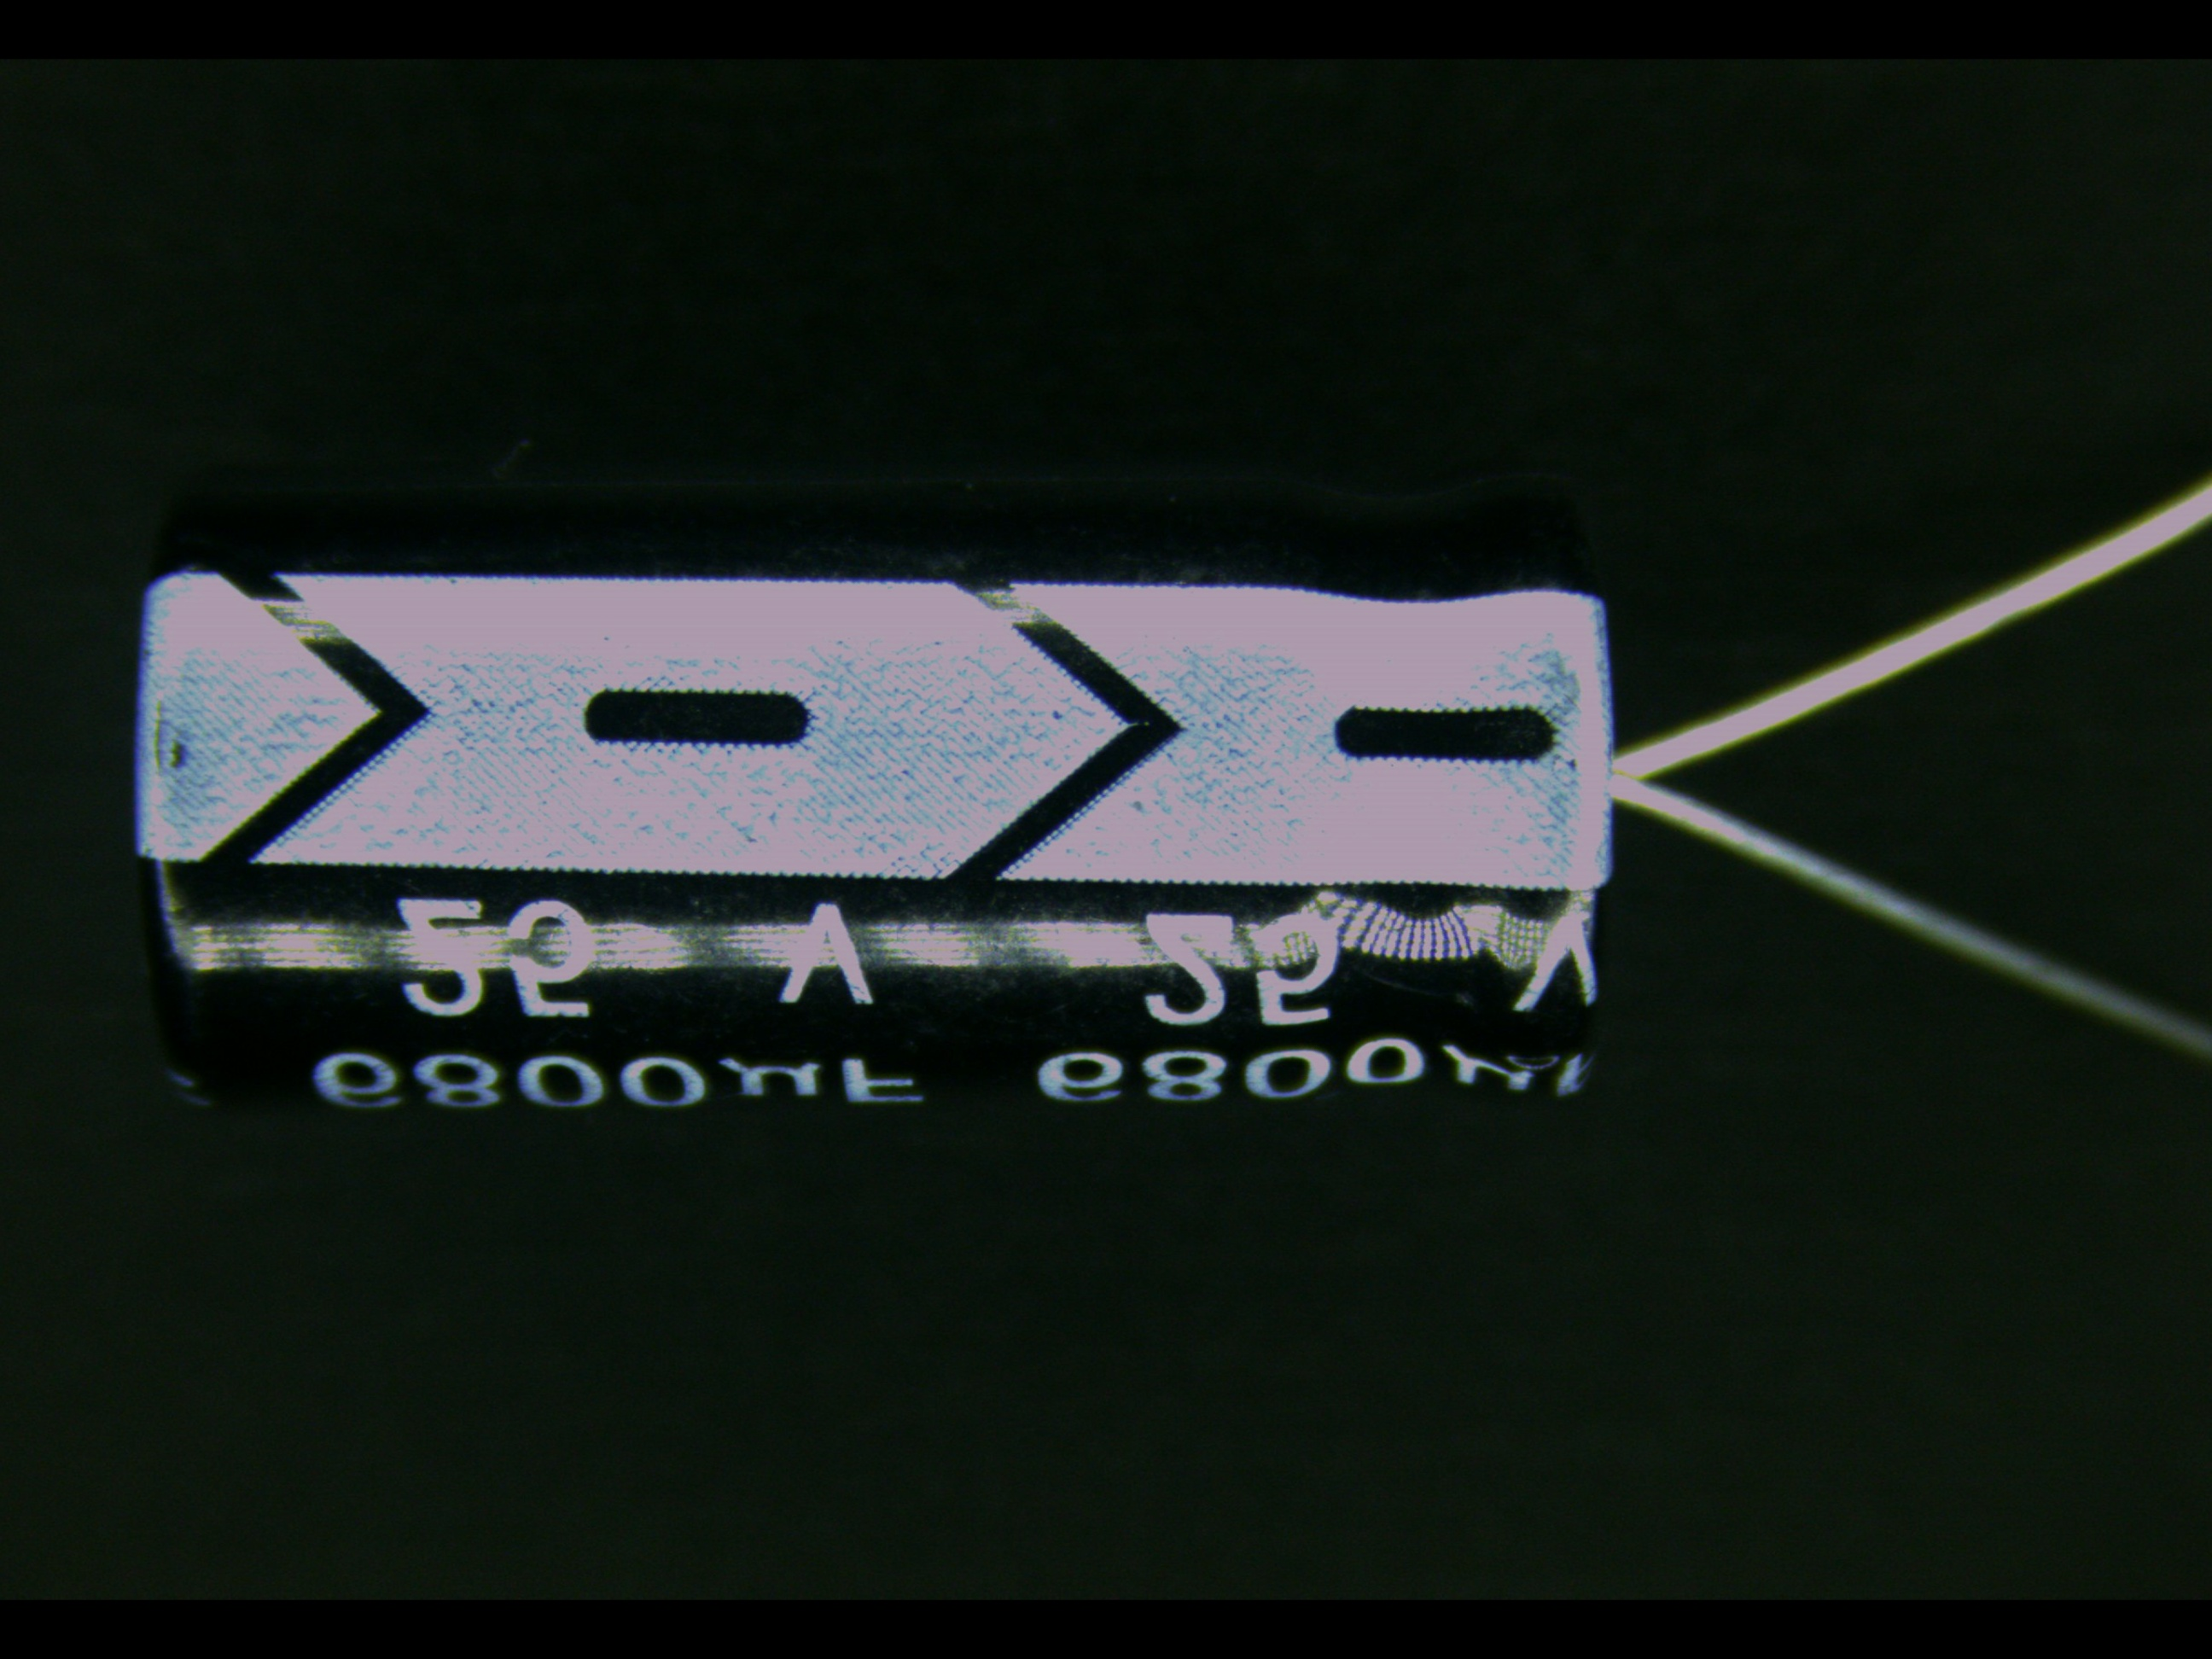c3: (122, 450, 1956, 1129)
